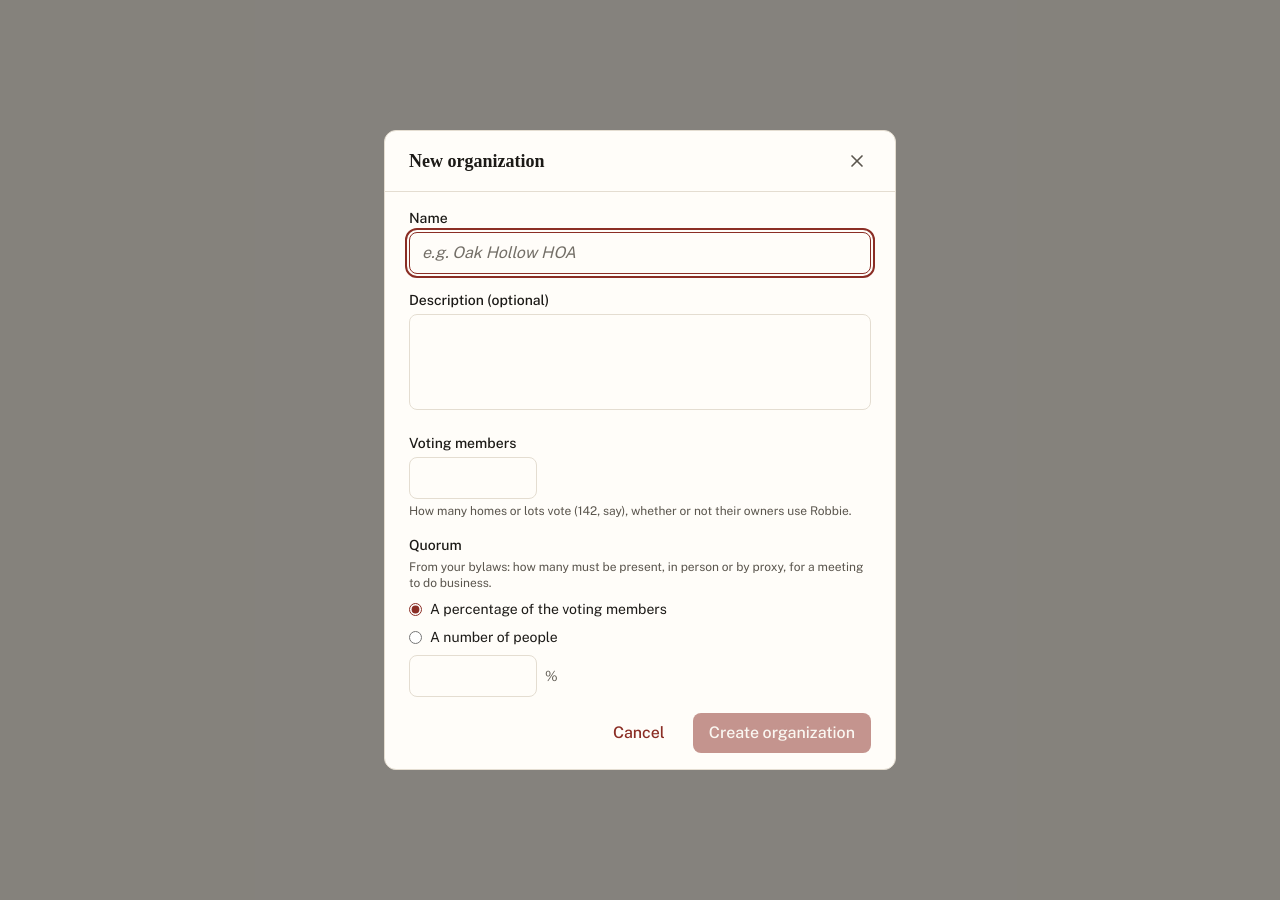
Test: NewOrganizationModal › asks for the voting members and the quorum before creating it
Type "Oak Hollow" into the field labelled "Name" at (640, 253), box [409, 232, 871, 274]
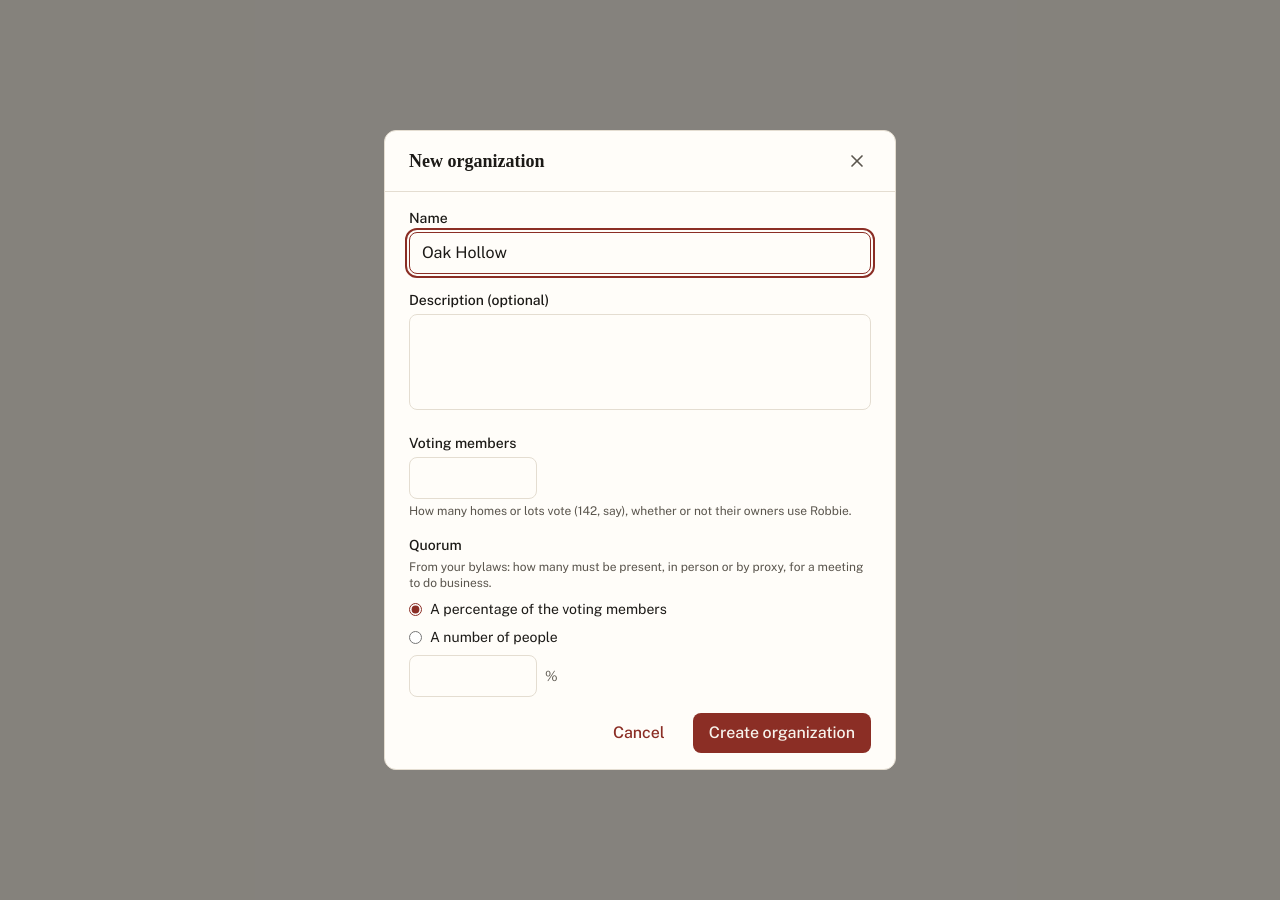
Click the button "Create organization" at (782, 733), box [693, 713, 871, 753]
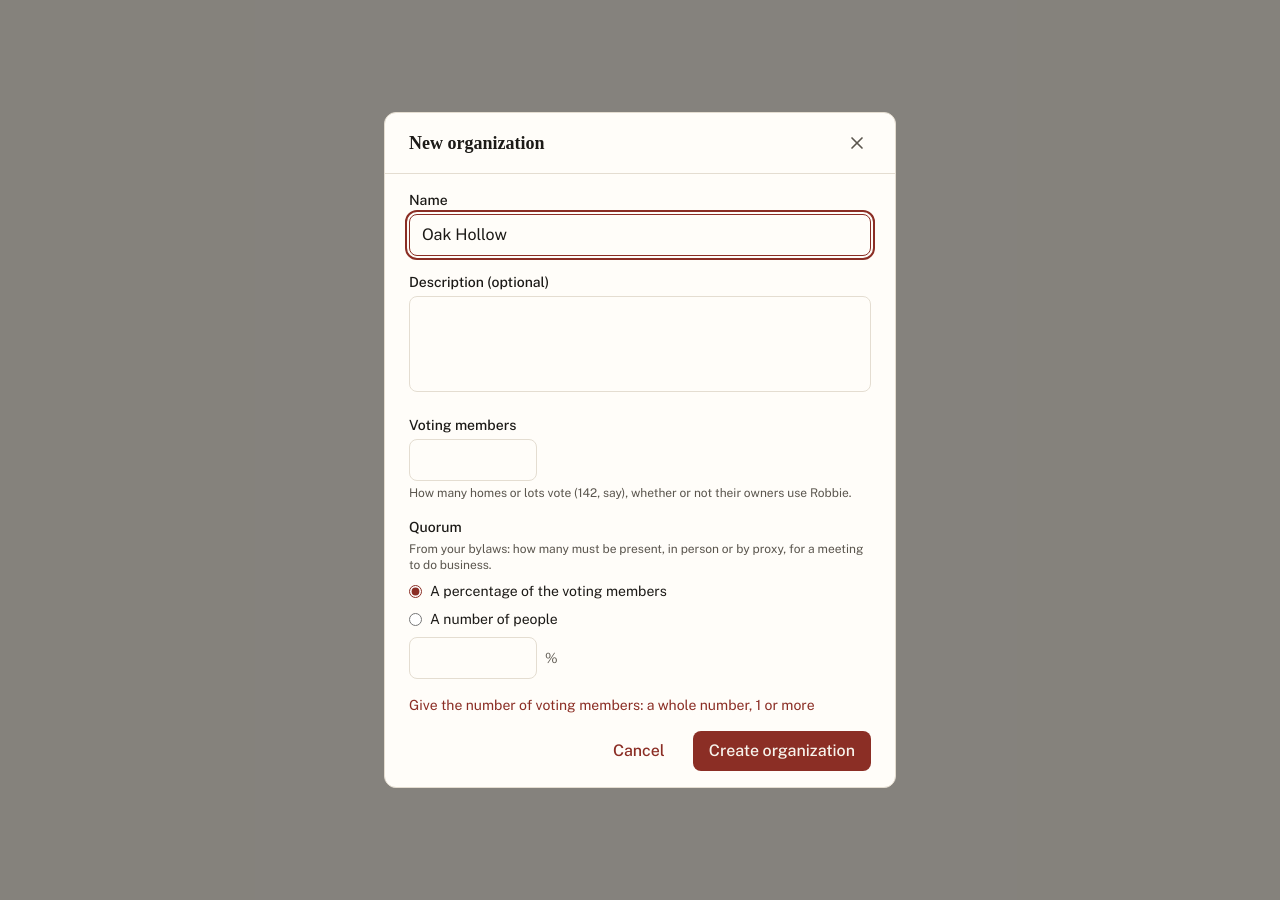
Result: the message reads "Give the number of voting members: a whole number, 1 or more" at [409, 697, 815, 713]
Type "40" into the field labelled "Voting members" at (473, 460), box [409, 439, 537, 481]
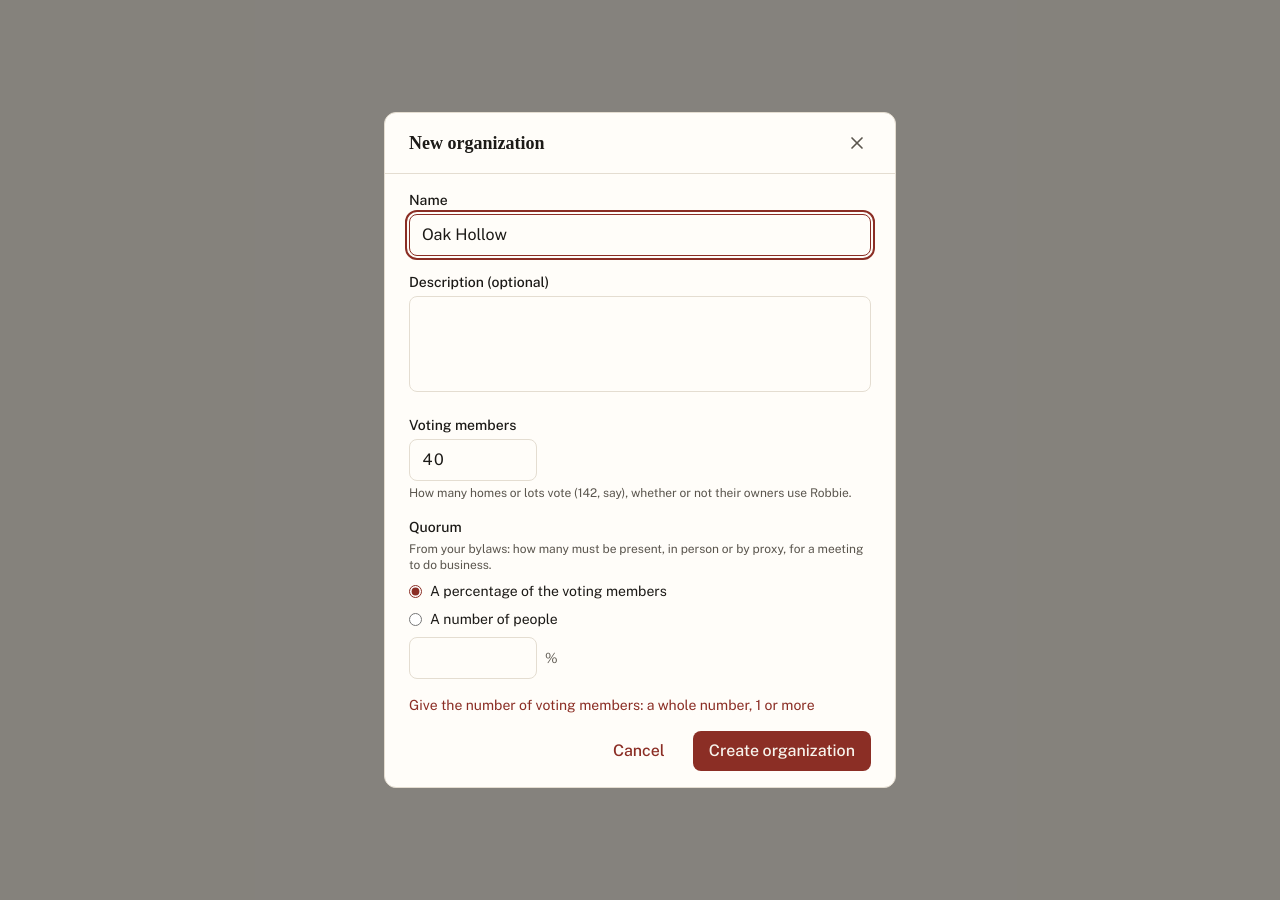
Click the radio button labelled "A number of people" at (416, 619), box [409, 612, 422, 626]
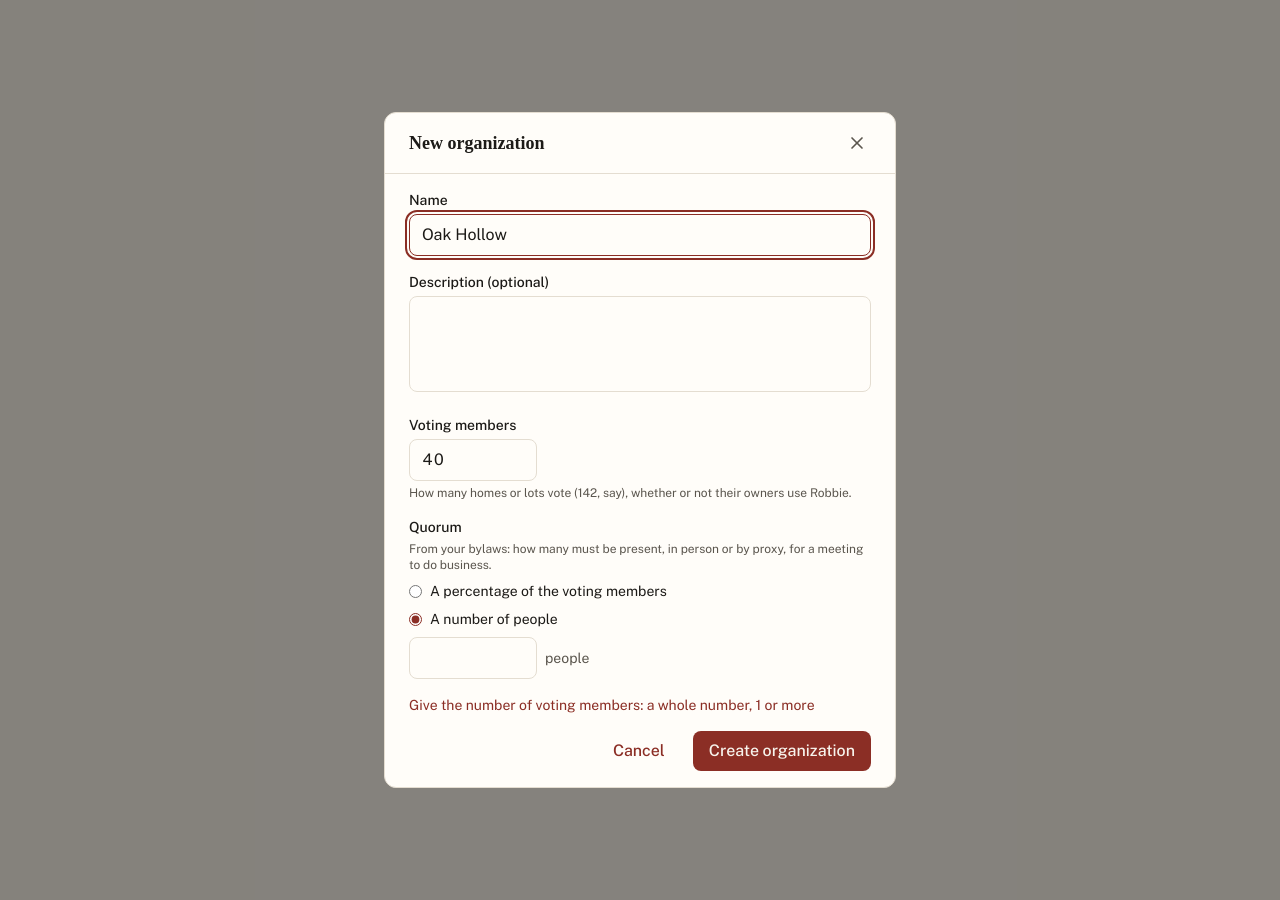
Click the button "Create organization" at (782, 751), box [693, 731, 871, 771]
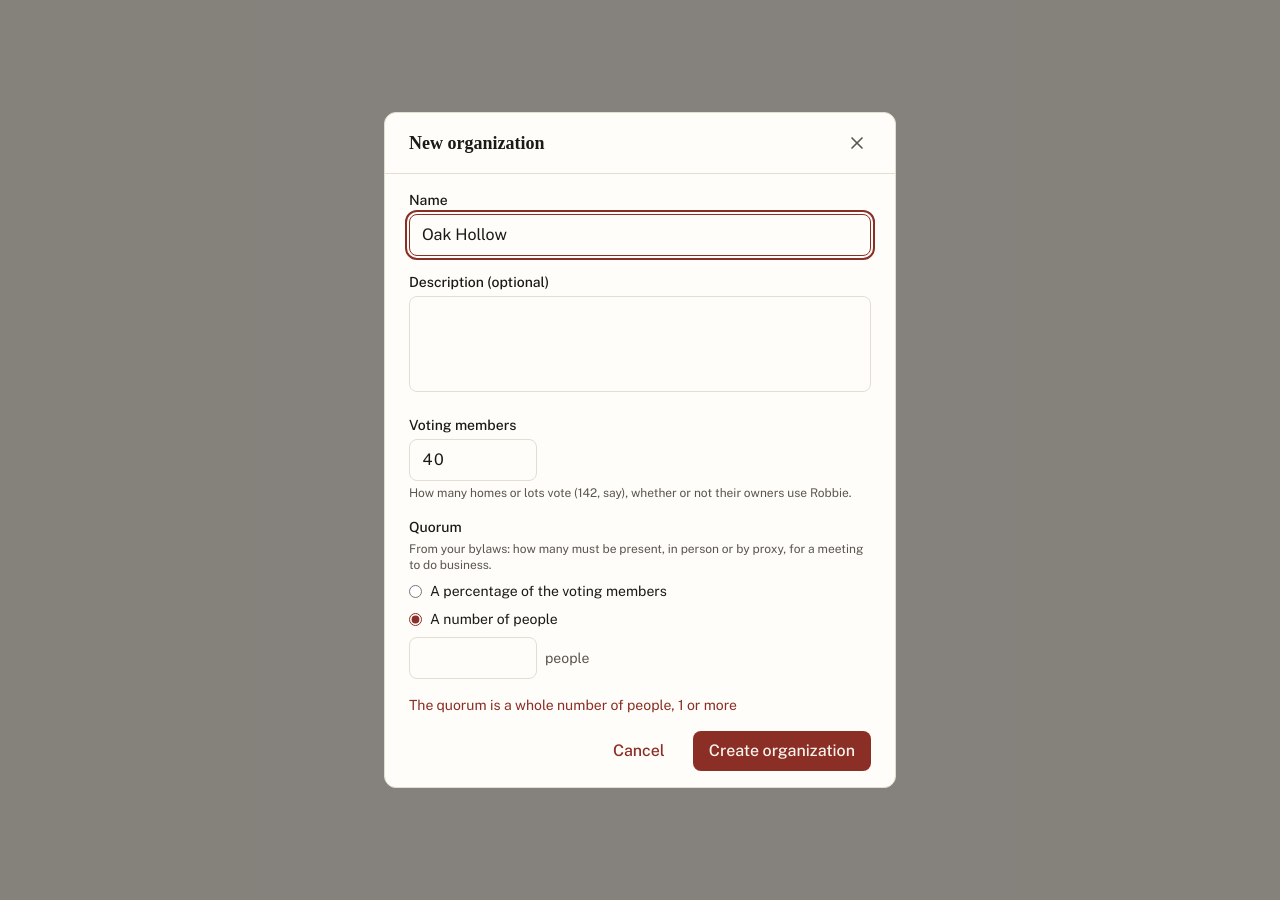
Result: the message reads "The quorum is a whole number of people, 1 or more" at [409, 697, 737, 713]
